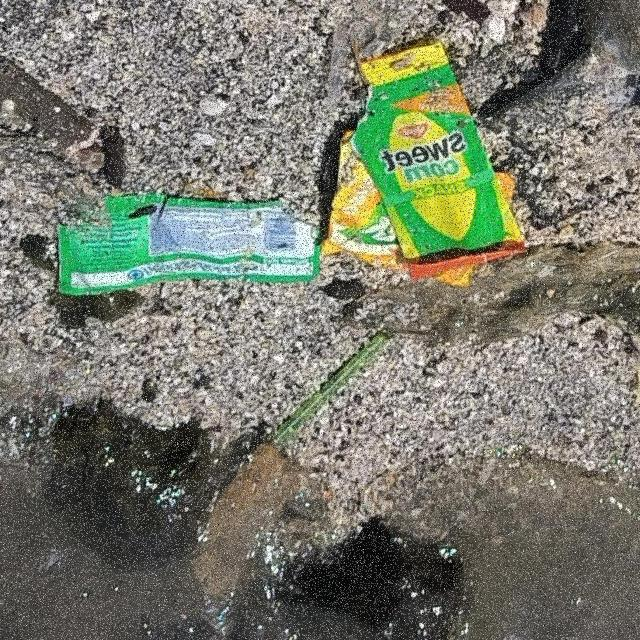plastic_waste: (320, 42, 530, 290), (57, 196, 323, 299), (274, 334, 386, 446)
